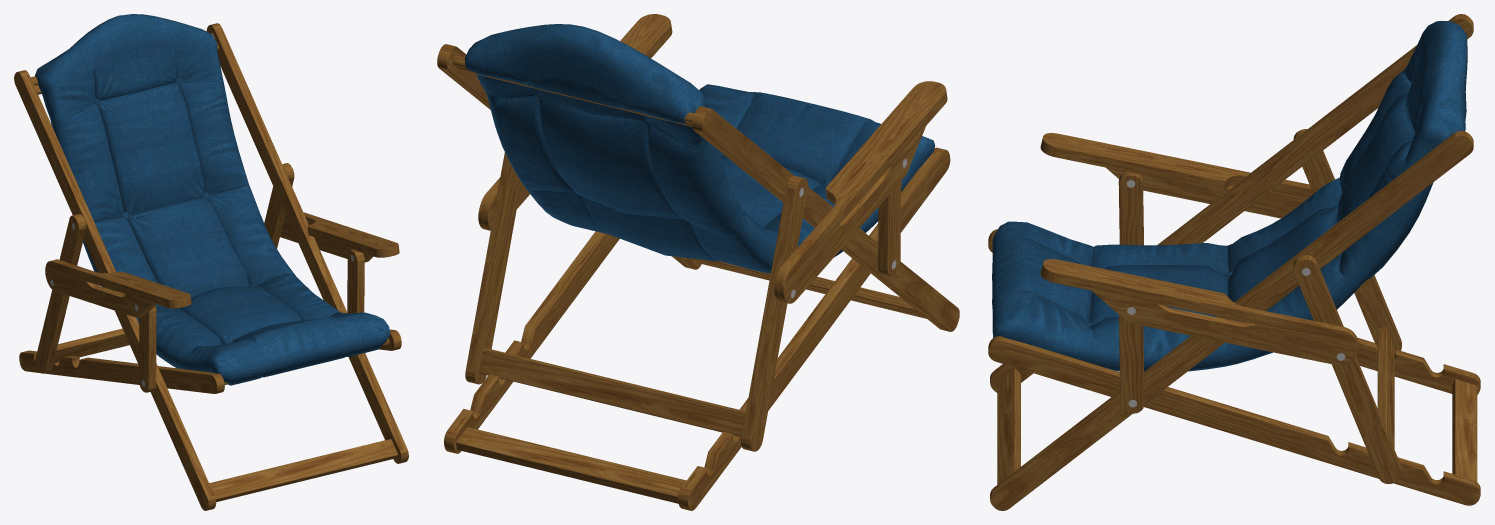
Rendered from SinteponС.glb.
The picture shows the model from 3 angles, left to right: view 1: azimuth 30°, elevation 25°; view 2: azimuth 150°, elevation 25°; view 3: azimuth 270°, elevation 25°; orthographic projection. The views are drawn at different scales.
Visible parts, largest first — view 1: Sun_Lounger_v2_fabric_part, Sun_Lounger_v2_wood_part; view 2: Sun_Lounger_v2_wood_part, Sun_Lounger_v2_fabric_part; view 3: Sun_Lounger_v2_wood_part, Sun_Lounger_v2_fabric_part.
Part boxes in pixels (x1=…): Sun_Lounger_v2_fabric_part: x1=35, y1=14, x2=390, y2=385; Sun_Lounger_v2_wood_part: x1=14, y1=23, x2=408, y2=510; Sun_Lounger_v2_wood_part: x1=437, y1=14, x2=959, y2=510; Sun_Lounger_v2_fabric_part: x1=464, y1=24, x2=934, y2=273; Sun_Lounger_v2_wood_part: x1=988, y1=14, x2=1480, y2=510; Sun_Lounger_v2_fabric_part: x1=992, y1=21, x2=1467, y2=371.
Bounding box in the file's own units: 0.759 × 1.06 × 1.13.
2 materials, 2 textured.
